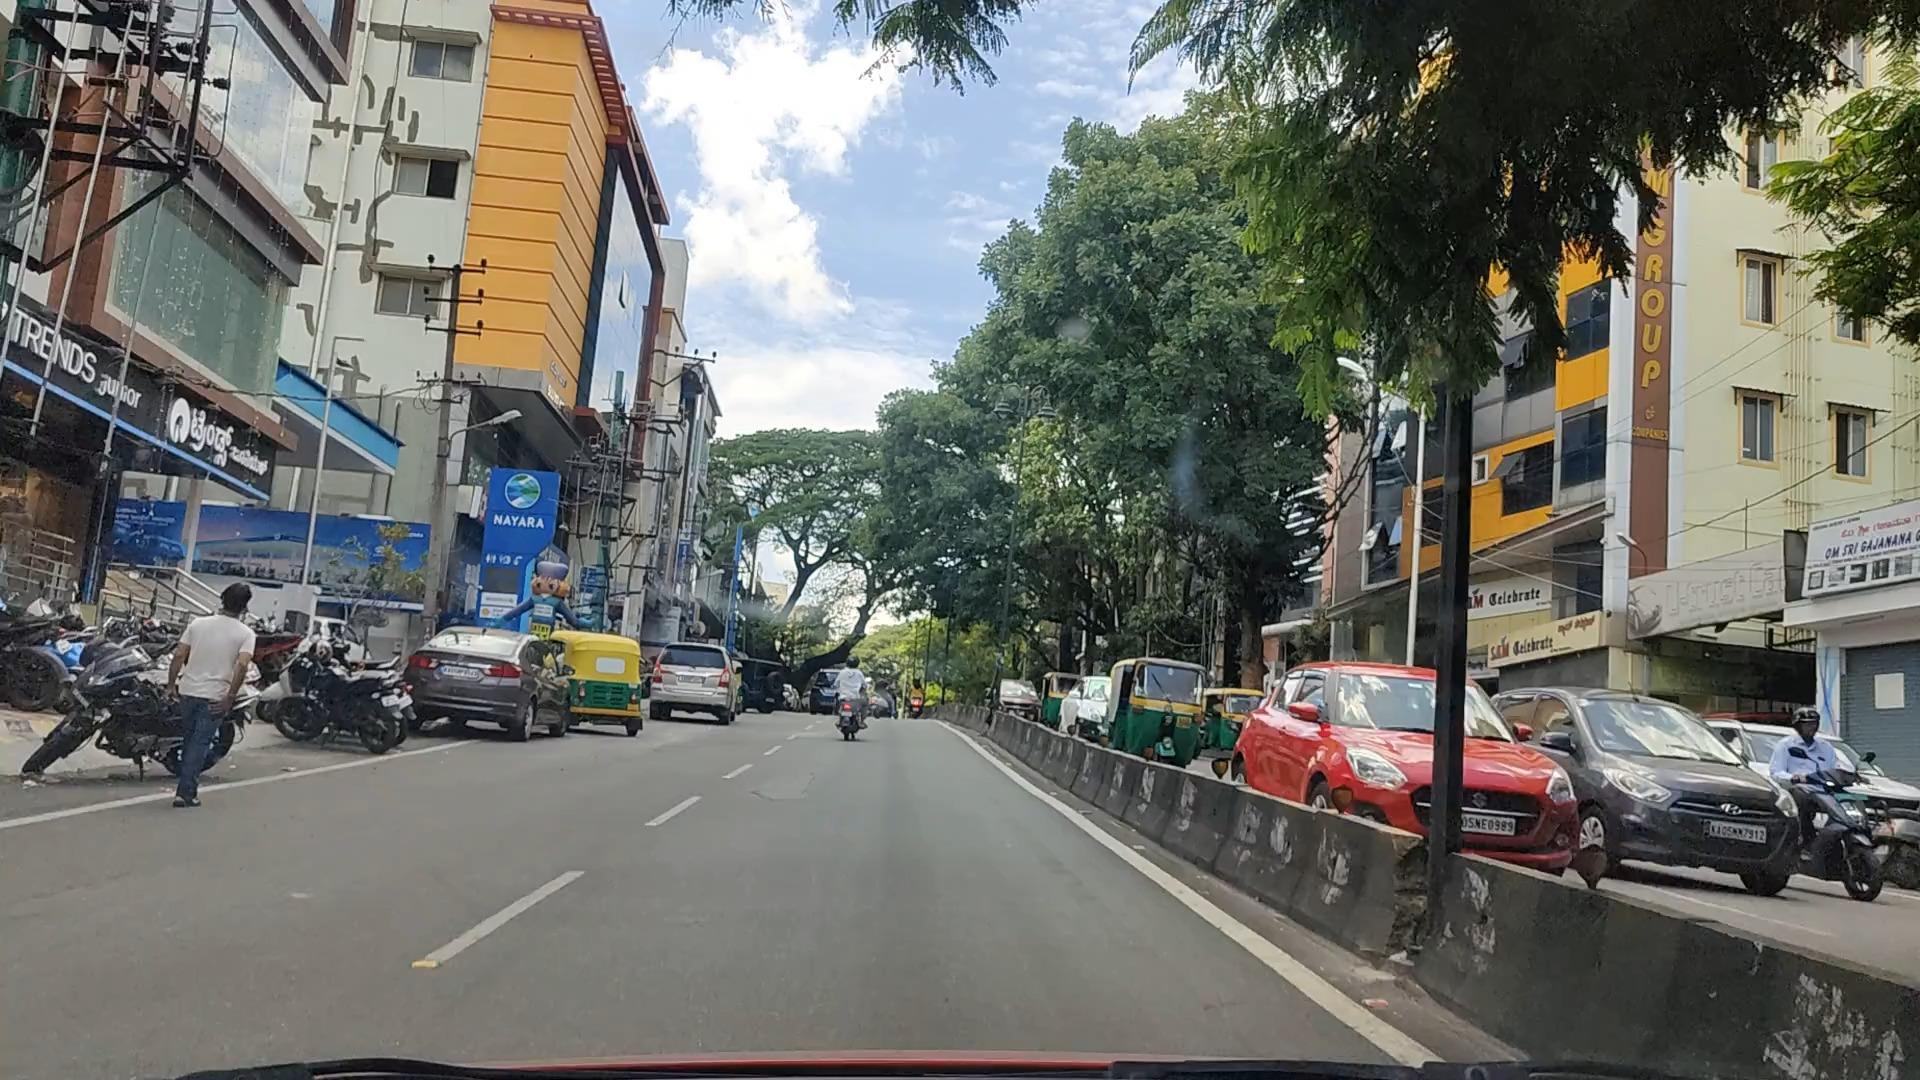LMV: (178, 560, 276, 824)
